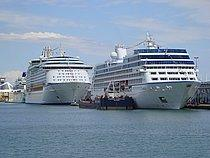Ship: (91, 29, 205, 115), (17, 42, 96, 112)
